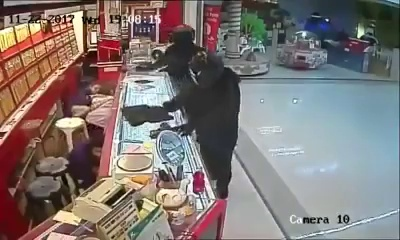helmet: (185, 53, 226, 88), (170, 23, 196, 48)
